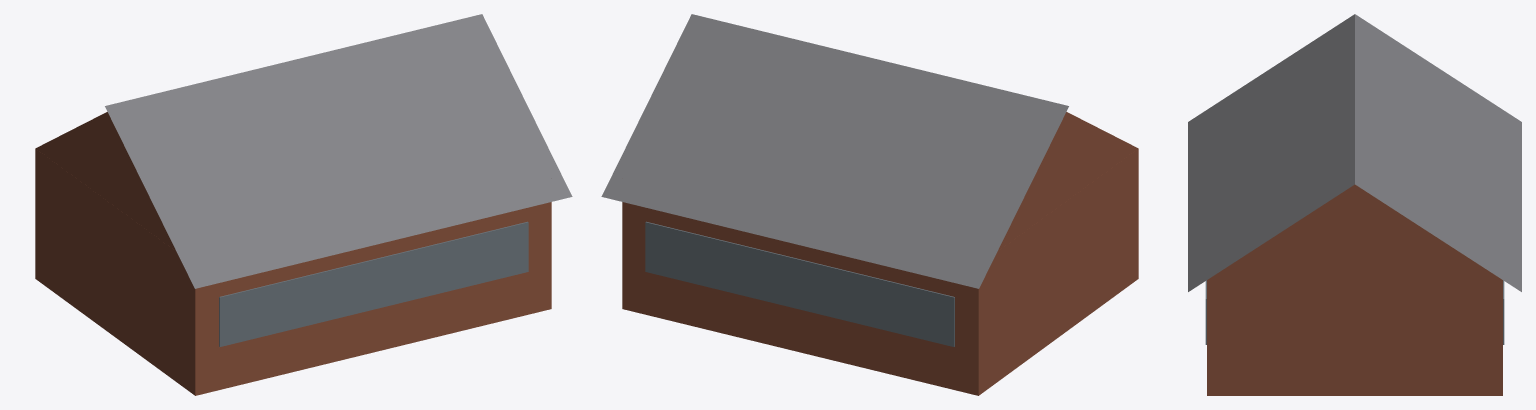
File: cottage-wood.loc-v1.lod2.glb
3 renders of one model, left to right at view 1: azimuth 30°, elevation 25°; view 2: azimuth 150°, elevation 25°; view 3: azimuth 270°, elevation 25°, orthographic. The views are drawn at different scales.
Parts seen in each view (by area): view 1: cottage-wood; view 2: cottage-wood; view 3: cottage-wood.
Part boxes in pixels (box(x1,y1,x2,y2)): cottage-wood: box(35, 14, 572, 395); cottage-wood: box(601, 14, 1138, 395); cottage-wood: box(1188, 14, 1521, 395).
Size of the model in its own units: 9.54 by 5.65 by 7.9.
